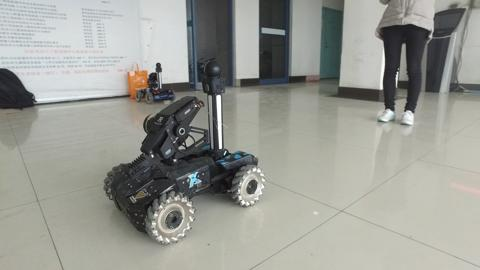chariot: (99, 58, 270, 248), (133, 54, 179, 112)
